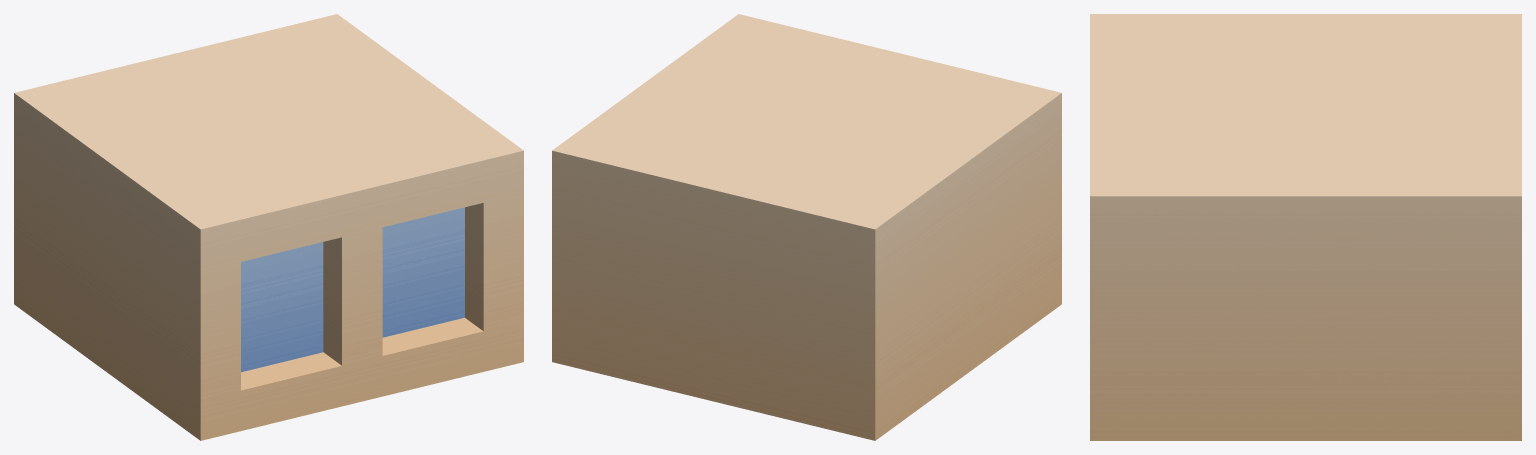
File: kp_ui_building_windows.glb
3 views of the same model, side by side, from view 1: azimuth 30°, elevation 25°; view 2: azimuth 150°, elevation 25°; view 3: azimuth 270°, elevation 25° (orthographic). The views are drawn at different scales.
Parts seen in each view (by area): view 1: building-windows; view 2: building-windows; view 3: building-windows.
Boxes of the visible parts, <box> form: building-windows: <box>14,14,523,440</box>; building-windows: <box>552,14,1061,440</box>; building-windows: <box>1090,14,1521,440</box>.
Bounding box in the file's own units: 1 × 0.625 × 1.
Materials: 1 (1 with a texture image).
